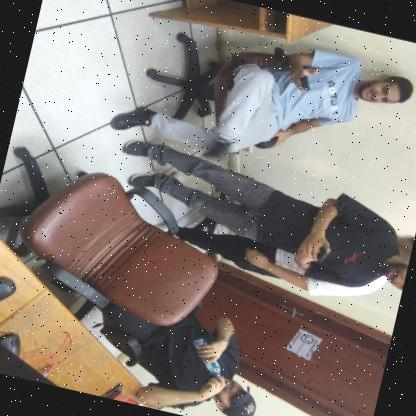chair: (0, 147, 243, 337)
person: (100, 0, 416, 202), (87, 127, 416, 288), (53, 271, 299, 416)
